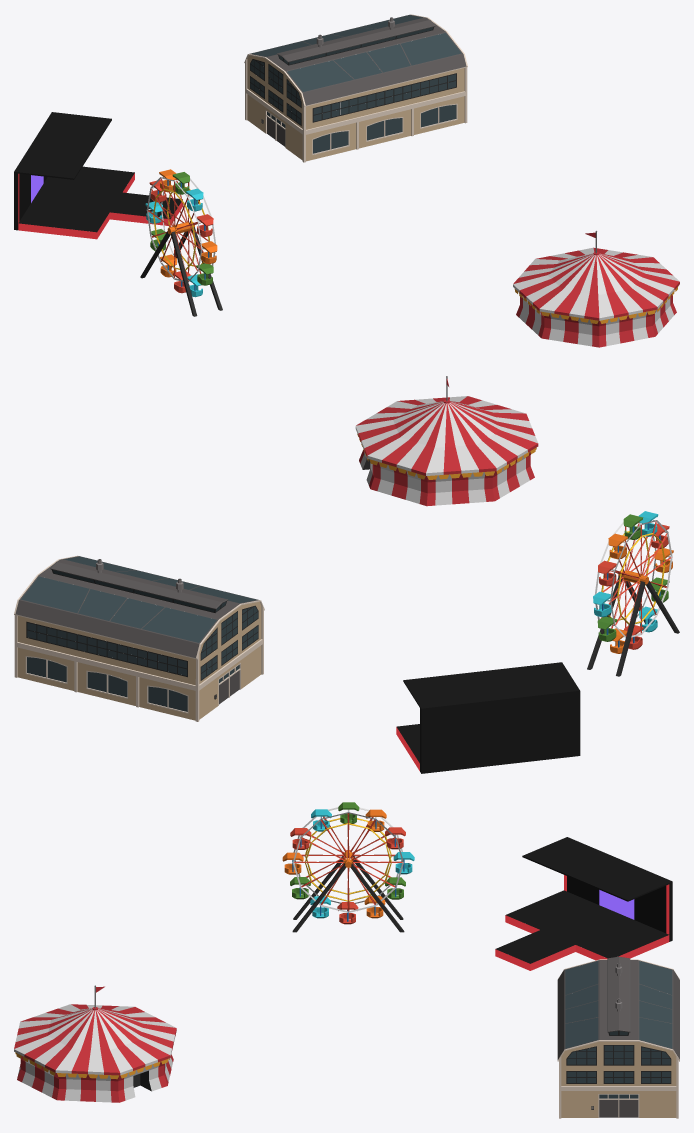
Rendered from festival-structures.glb.
The picture shows the model from 3 angles, top to bottom: view 1: azimuth 30°, elevation 25°; view 2: azimuth 150°, elevation 25°; view 3: azimuth 270°, elevation 25°; orthographic projection. The views are drawn at different scales.
Visible parts, largest first — view 1: industry-factory-hall, tent-circus-big, Cube.001, ferris_wheel.002; view 2: industry-factory-hall, tent-circus-big, Cube.001, ferris_wheel.002; view 3: industry-factory-hall, Cube.001, tent-circus-big, ferris_wheel.002.
Boxes of the visible parts, x1,y1,x2,y2 form: industry-factory-hall: [244, 14, 467, 162]; tent-circus-big: [513, 230, 679, 347]; Cube.001: [14, 112, 182, 239]; ferris_wheel.002: [140, 169, 222, 316]; industry-factory-hall: [14, 555, 264, 721]; tent-circus-big: [355, 376, 538, 506]; Cube.001: [396, 662, 580, 773]; ferris_wheel.002: [587, 511, 679, 676]; industry-factory-hall: [557, 956, 679, 1118]; Cube.001: [495, 837, 672, 970]; tent-circus-big: [14, 985, 176, 1102]; ferris_wheel.002: [282, 802, 414, 932].
Size of the model in its own units: 55.2 by 13.93 by 69.63.
